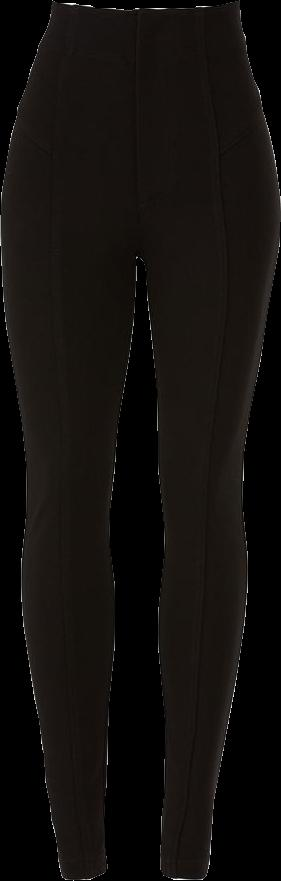Hemline: (159, 861, 212, 880), (59, 863, 112, 880)
Pantleg: (141, 1, 280, 878), (1, 2, 140, 879)
Waistline: (48, 0, 236, 18)
